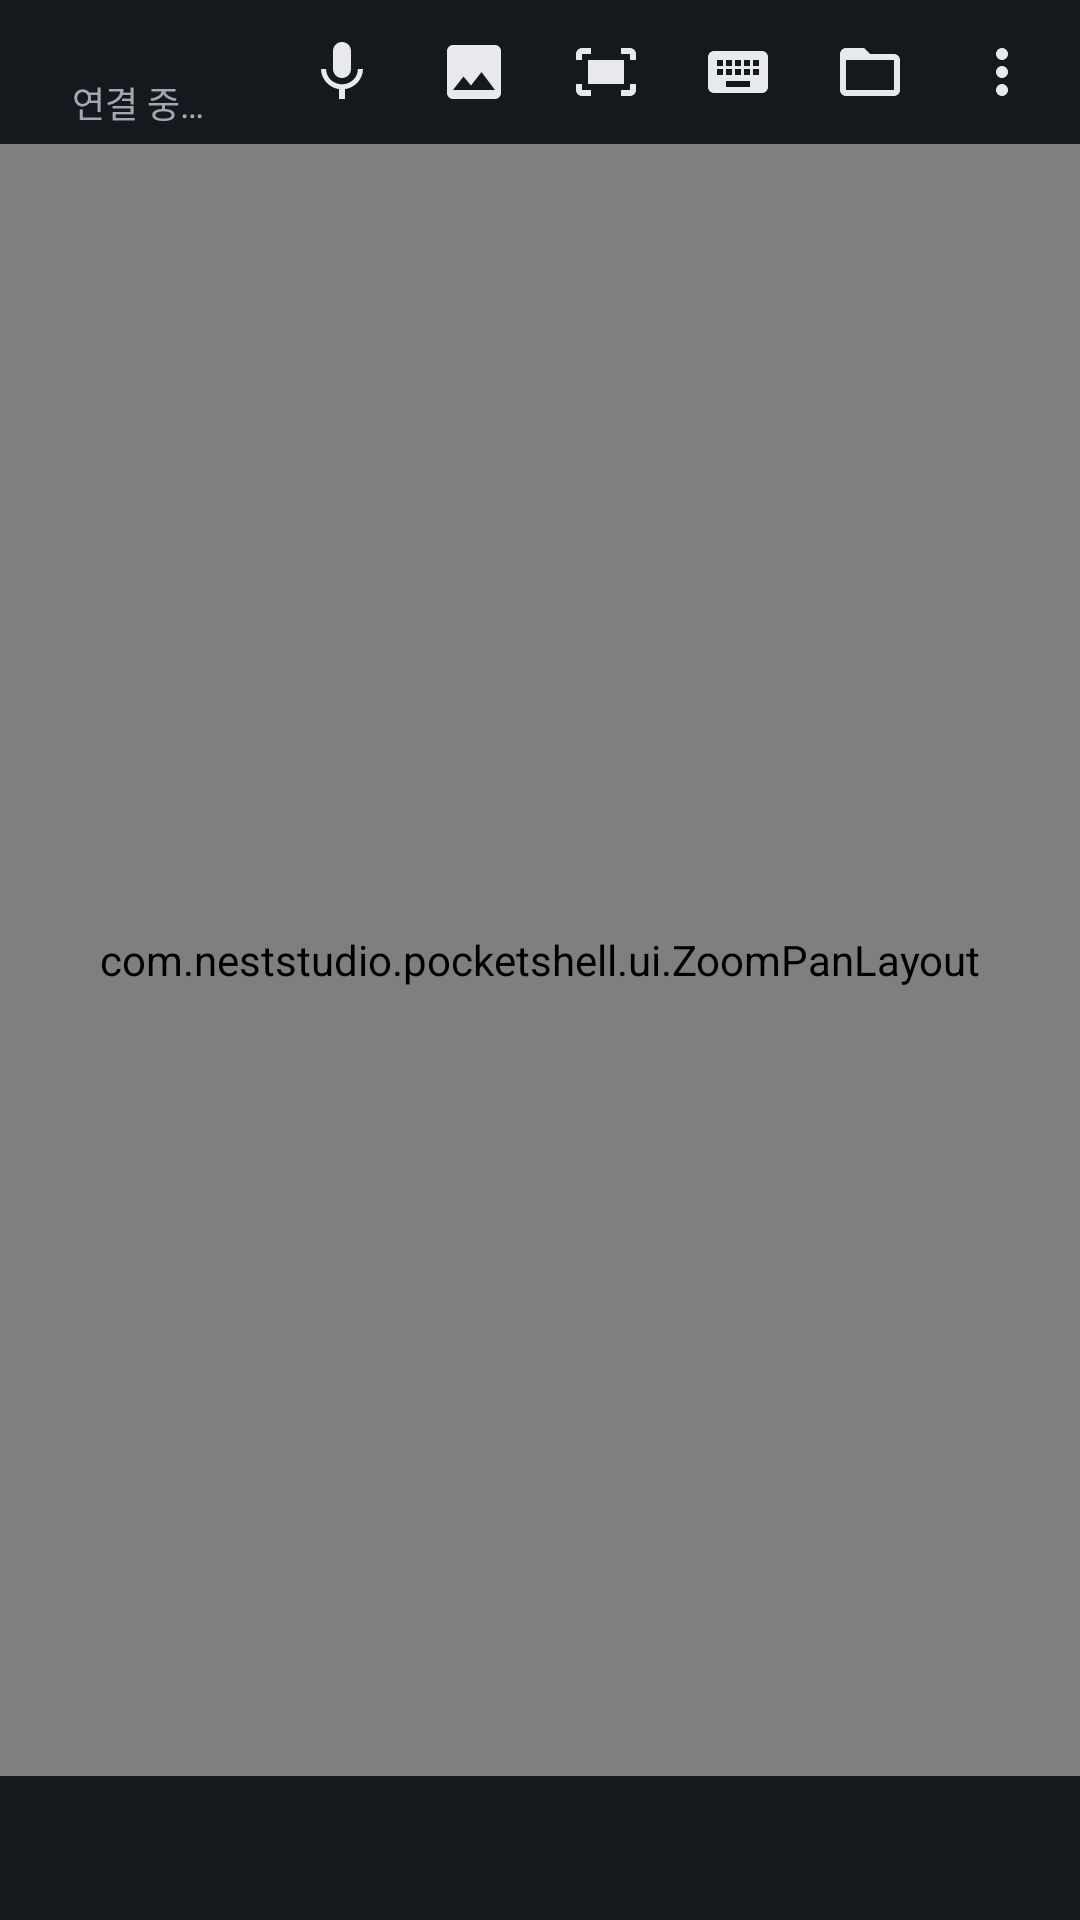

Icons on this 1080 × 1920 Android screen, each with its box as rect(x1, y1, x2, y2):
옵션: rect(996, 48, 1008, 96)
원래 크기로 맞춤: rect(576, 48, 636, 96)
음성으로 입력: rect(321, 42, 363, 99)
이미지 붙여넣기 (PC 클립보드 + Alt+V): rect(447, 45, 501, 99)
키보드: rect(708, 51, 768, 93)
프로젝트 파일: rect(840, 48, 900, 96)
